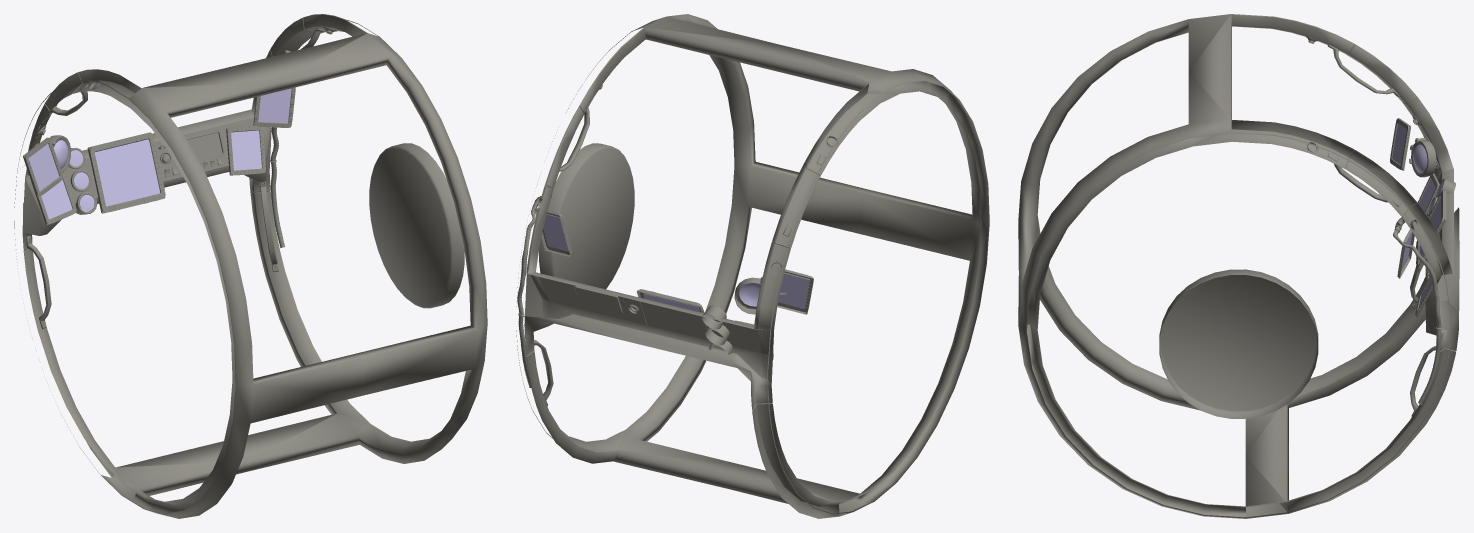
File: default_cockpit.dae
3 renders of one model, left to right at view 1: azimuth 30°, elevation 25°; view 2: azimuth 150°, elevation 25°; view 3: azimuth 270°, elevation 25°, orthographic. The views are drawn at different scales.
Visible parts, largest first — view 1: Sphere_001, Sphere_002, screen_VR_001, Sphere_006, screen_VR_003, Plane_009, Plane_008, Plane_007, Plane_002, Plane_006, Plane_003, tube_circle_001 (+2 smaller); view 2: Sphere_001, Sphere_002, Sphere_006, tube_circle_001, Plane_007, Plane_008; view 3: Sphere_001, Sphere_002, tube_circle_001, NavBall.
Boxes of the visible parts, box(x1,y1,x2,y2) form: Sphere_001: box(14, 14, 487, 518); Sphere_002: box(369, 143, 464, 308); screen_VR_001: box(94, 139, 159, 206); Sphere_006: box(66, 126, 228, 197); screen_VR_003: box(87, 132, 165, 213); Plane_009: box(231, 130, 261, 170); Plane_008: box(258, 88, 291, 123); Plane_007: box(28, 143, 59, 191); Plane_002: box(226, 126, 265, 175); Plane_006: box(41, 180, 72, 219); Plane_003: box(23, 137, 62, 197); tube_circle_001: box(270, 127, 285, 247); Sphere_001: box(516, 14, 989, 518); Sphere_002: box(539, 143, 634, 289); Sphere_006: box(567, 284, 732, 342); tube_circle_001: box(517, 192, 551, 387); Plane_007: box(778, 273, 809, 308); Plane_008: box(543, 214, 568, 251); Sphere_001: box(1018, 14, 1459, 518); Sphere_002: box(1159, 269, 1318, 418); tube_circle_001: box(1393, 216, 1441, 404); NavBall: box(1409, 138, 1436, 177).
Size of the model in its own units: 1.42 by 1.79 by 1.79.
